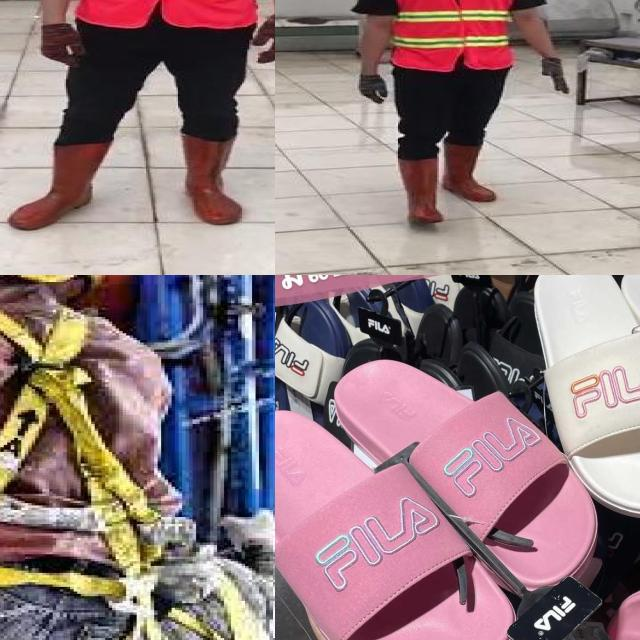Harness: (0, 297, 158, 640)
Sandals: (275, 352, 626, 640), (521, 275, 640, 529)
boots: (8, 139, 110, 230), (178, 131, 242, 224), (396, 155, 450, 223), (442, 142, 498, 201)
hand_glove: (41, 23, 84, 65), (252, 14, 275, 66), (540, 54, 569, 92), (355, 75, 389, 103)
person: (1, 0, 275, 232), (342, 0, 577, 236)
vest: (389, 0, 513, 73)
